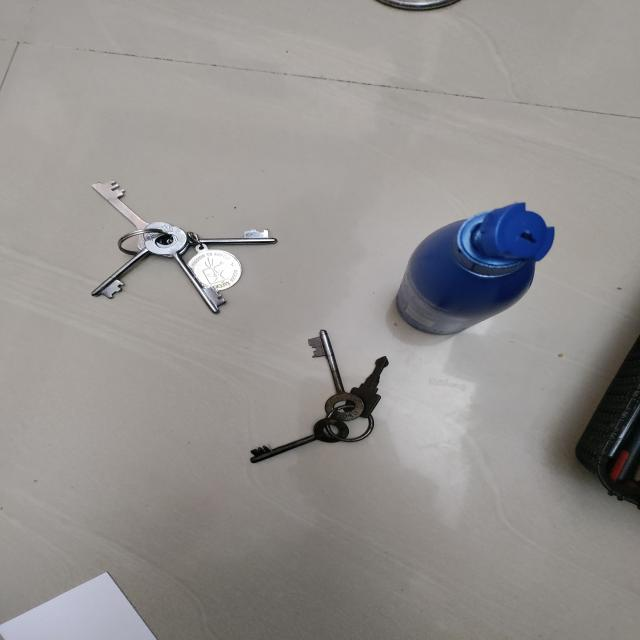metal: (86, 175, 280, 314), (249, 332, 387, 462), (372, 0, 463, 12)
paper: (0, 566, 159, 640)
plastic: (393, 202, 555, 336)
